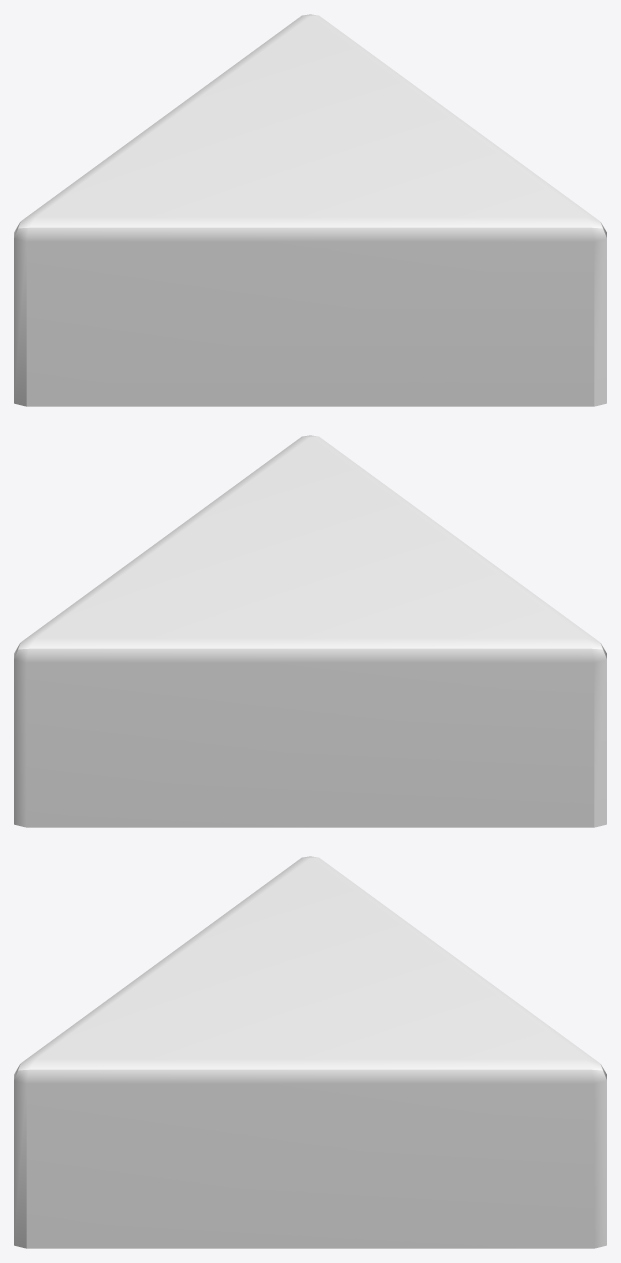
File: Triangle.fbx
The picture shows the model from 3 angles, top to bottom: view 1: azimuth 30°, elevation 25°; view 2: azimuth 150°, elevation 25°; view 3: azimuth 270°, elevation 25°; orthographic projection.
Visible parts, largest first — view 1: Triangle; view 2: Triangle; view 3: Triangle.
Part boxes in pixels (x1,y1,x2,y2): Triangle: [14, 14, 606, 406]; Triangle: [14, 435, 606, 827]; Triangle: [14, 856, 606, 1248].
Bounding box in the file's own units: 0.2549 × 0.0978 × 0.2902.
1 material, 1 textured.
